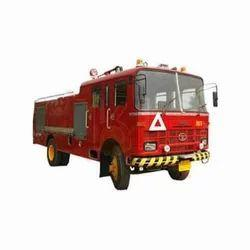Fire-engine: (13, 55, 224, 191)
